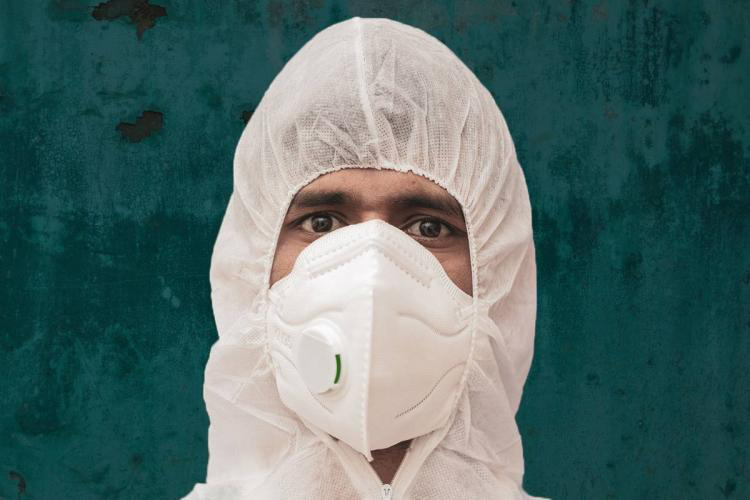Coverall: (203, 20, 539, 496)
with_mask: (263, 202, 473, 454)
